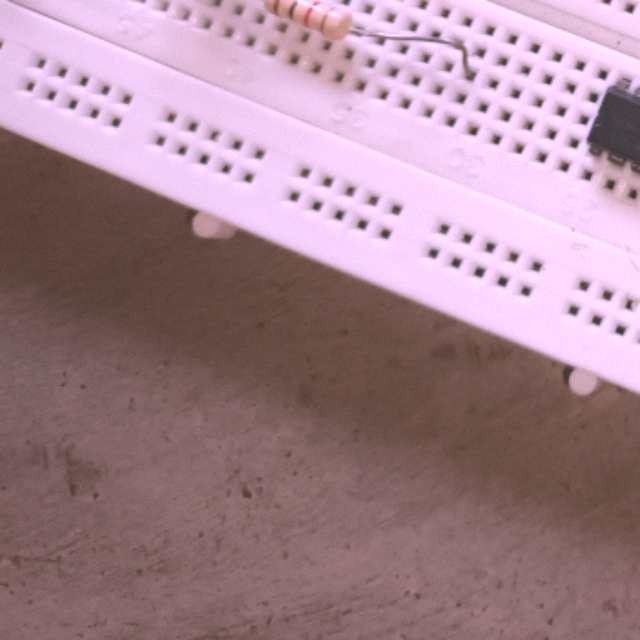resistor: (262, 0, 356, 43)
